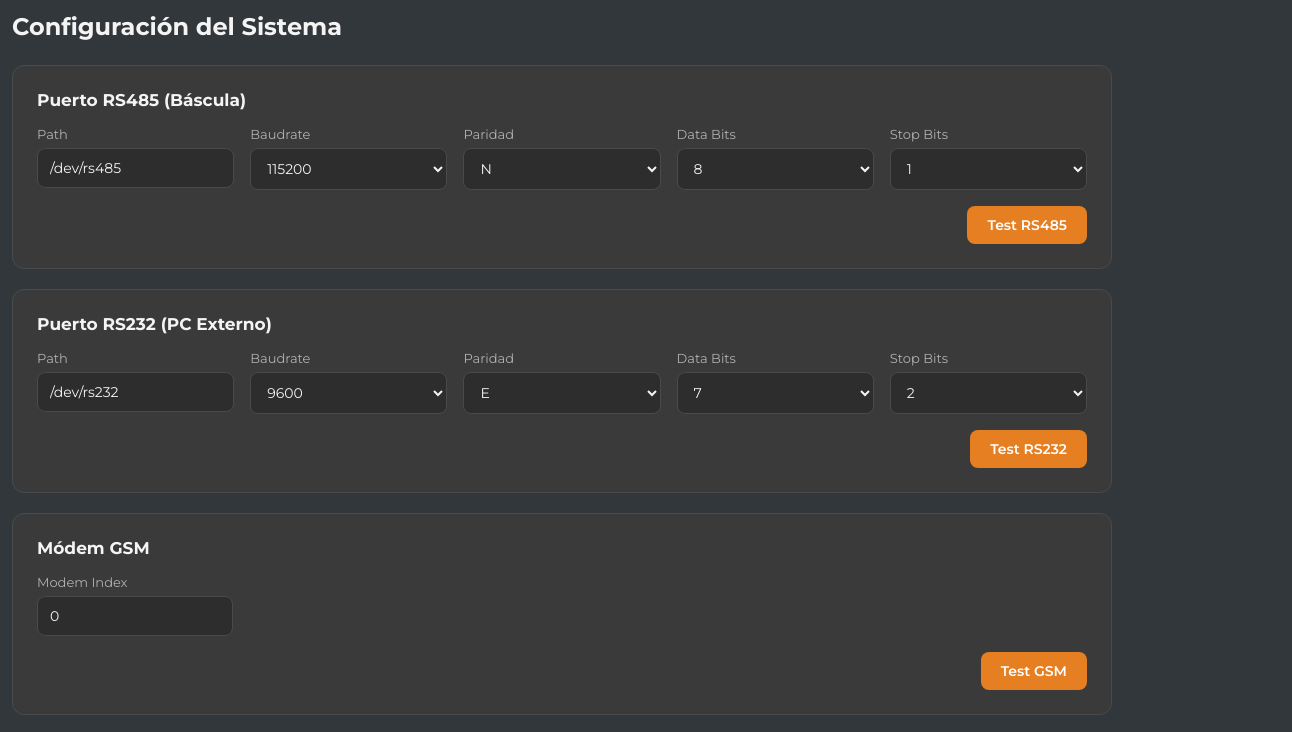
Test: AdminConfig › test de puerto (R4) › deshabilita el boton mientras prueba en curso
Click the button "Test RS485": (1027, 225) top-left (968, 206), bottom-right (1087, 244)
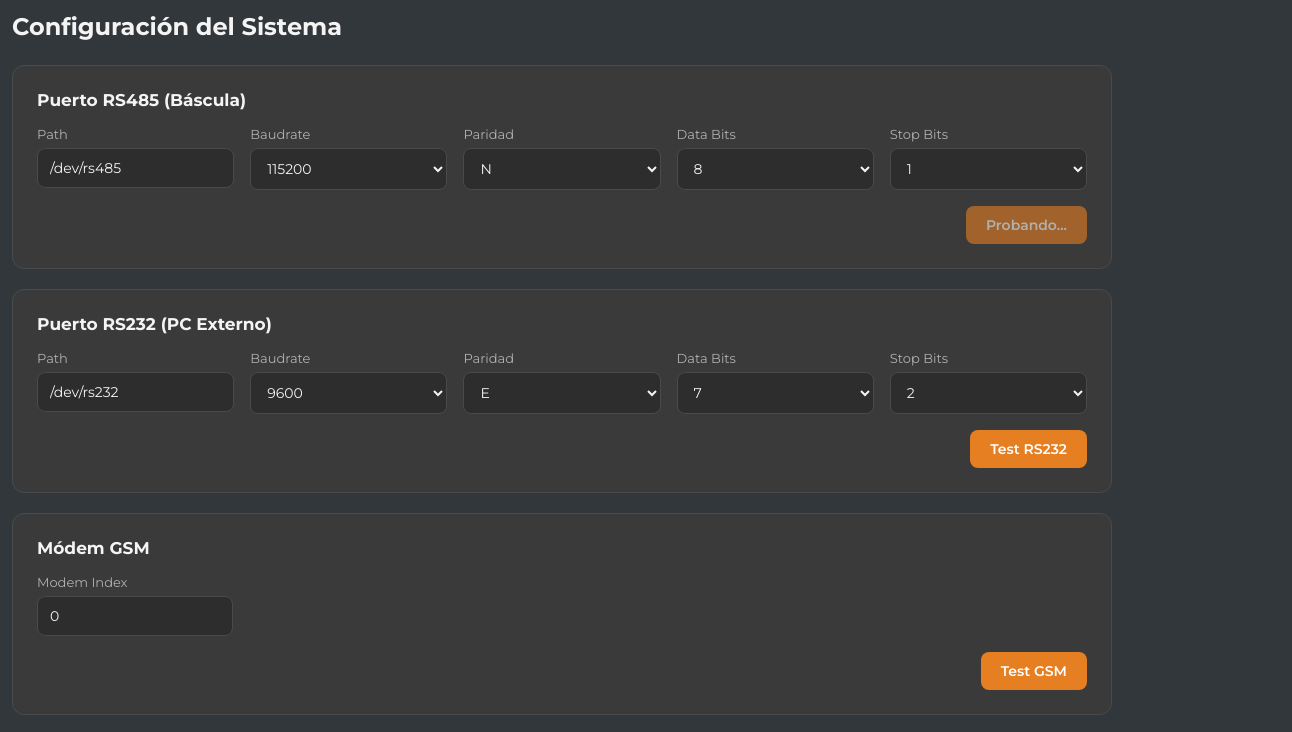
Expected: the button "Probando..." is disabled, top-left (966, 206), bottom-right (1087, 244)
